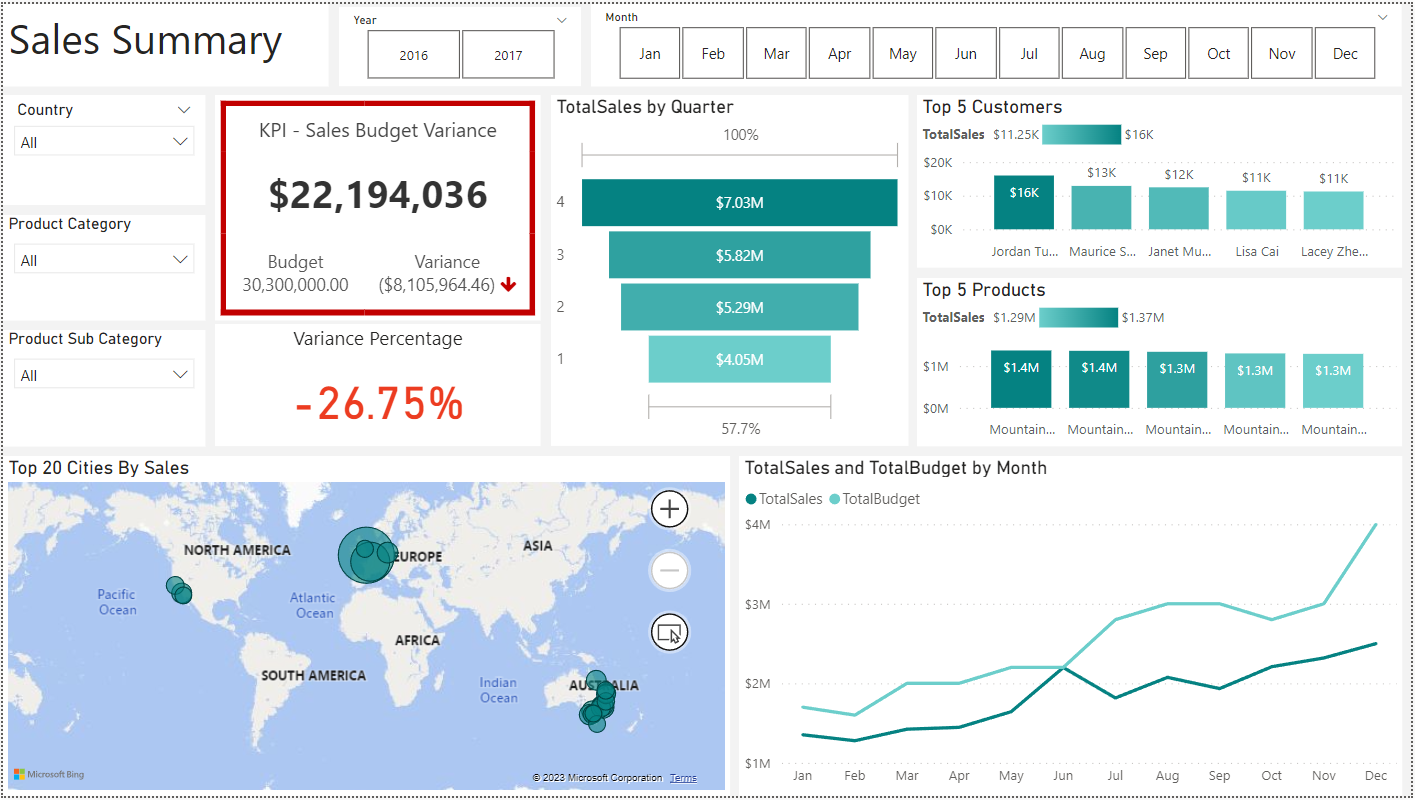

This screenshot's page, from the dashboard's own definition file:
{"tool":"powerbi","page":{"name":"Executive Summary","canvas":[1280,720],"ordinal":0},"visuals":[{"type":"textbox","box":[0,0,296.4,74.5],"z":0},{"type":"slicer","fields":{"Values":["Dim_Date.Year"]},"box":[305.5,2.7,220,71.8],"z":1000},{"type":"slicer","title":"Product Category","fields":{"Values":["Dim_Product.Category"]},"box":[0,191.6,183.6,95.8],"z":2000},{"type":"slicer","title":"Product Sub Category","fields":{"Values":["Dim_Product.Sub Category"]},"box":[0,296.4,183.6,105.7],"z":3000},{"type":"slicer","fields":{"Values":["Dim_Customer.Country"]},"box":[0,82.7,183.6,100],"z":4000},{"type":"BBED0A4D4D8D44CE93CF2DAFADEE466C","fields":{"actual":["Fact_Internet_Sales.TotalSales"],"target1":["Fact_Budget.TotalBudget"],"target2":["Fact_Budget.TotalVariancce"]},"box":[192.7,82.7,296.4,204.5],"z":5000},{"type":"card","title":"Variance Percentage","fields":{"Values":["Fact_Budget.VariancePct"]},"box":[192.5,291,296.4,111],"z":6000},{"type":"slicer","fields":{"Values":["Dim_Date.Month"]},"box":[534.5,0,737.3,74.5],"z":7000},{"type":"funnel","fields":{"Category":["Dim_Date.Quarter"],"Y":["Fact_Internet_Sales.TotalSales"]},"box":[498.2,82.7,324.5,319.1],"z":8000},{"type":"columnChart","title":"Top 5 Customers","fields":{"Category":["Dim_Customer.Full Name"],"Y":["Fact_Internet_Sales.TotalSales"]},"box":[830.9,82.7,440.9,157.3],"z":9000},{"type":"columnChart","title":"Top 5 Products","fields":{"Y":["Fact_Internet_Sales.TotalSales"],"Category":["Dim_Product.EnglishProductName"]},"box":[831,249,440.6,153.1],"z":10000},{"type":"map","title":"Top 20 Cities By Sales","fields":{"Category":["Dim_Customer.City"],"Size":["Fact_Internet_Sales.TotalSales"]},"box":[0,411,660.9,309],"z":11000},{"type":"lineChart","fields":{"Category":["Dim_Date.Month"],"Y":["Fact_Internet_Sales.TotalSales","Fact_Budget.TotalBudget"]},"box":[669,411,602.7,309],"z":12000}]}

Visuals, with their boxes in screenshot pixels (x1, y1, x2, y2), scaled from the page's 1280x720 canvas onto the 1415x800 screenshot:
textbox: {"left": 0, "top": 0, "right": 328, "bottom": 83}
slicer - Dim_Date.Year: {"left": 338, "top": 3, "right": 581, "bottom": 83}
"Product Category" slicer: {"left": 0, "top": 213, "right": 203, "bottom": 319}
"Product Sub Category" slicer: {"left": 0, "top": 329, "right": 203, "bottom": 447}
slicer - Dim_Customer.Country: {"left": 0, "top": 92, "right": 203, "bottom": 203}
BBED0A4D4D8D44CE93CF2DAFADEE466C - Fact_Internet_Sales.TotalSales x Fact_Budget.TotalBudget: {"left": 213, "top": 92, "right": 541, "bottom": 319}
"Variance Percentage" card: {"left": 213, "top": 323, "right": 540, "bottom": 447}
slicer - Dim_Date.Month: {"left": 591, "top": 0, "right": 1406, "bottom": 83}
funnel - Dim_Date.Quarter x Fact_Internet_Sales.TotalSales: {"left": 551, "top": 92, "right": 909, "bottom": 446}
"Top 5 Customers" columnChart: {"left": 919, "top": 92, "right": 1406, "bottom": 267}
"Top 5 Products" columnChart: {"left": 919, "top": 277, "right": 1406, "bottom": 447}
"Top 20 Cities By Sales" map: {"left": 0, "top": 457, "right": 731, "bottom": 799}
lineChart - Dim_Date.Month x Fact_Internet_Sales.TotalSales: {"left": 740, "top": 457, "right": 1406, "bottom": 799}
